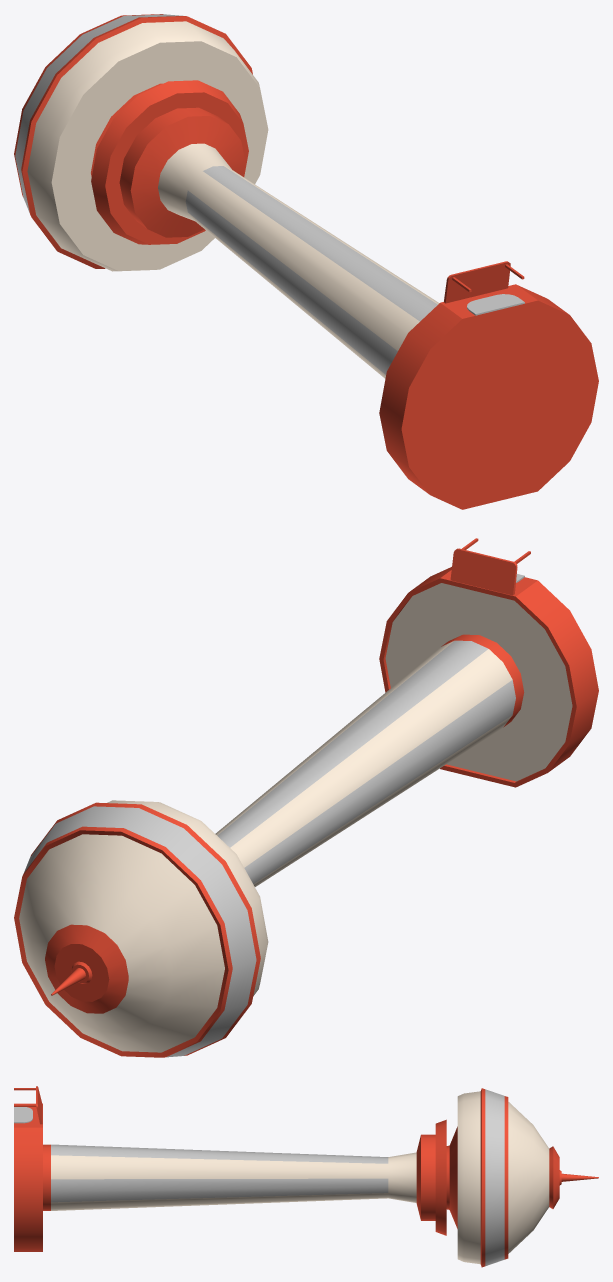
Rendered from Building05.fbx.
The picture shows the model from 3 angles, top to bottom: view 1: azimuth 30°, elevation 25°; view 2: azimuth 150°, elevation 25°; view 3: azimuth 270°, elevation 25°; orthographic projection. The views are drawn at different scales.
Visible parts, largest first — view 1: c032; view 2: c032; view 3: c032.
Part boxes in pixels (x1,y1,x2,y2): c032: (14,14,598,509); c032: (14,538,598,1057); c032: (14,1086,598,1267).
Bounding box in the file's own units: 1159 × 1159 × 3774.
